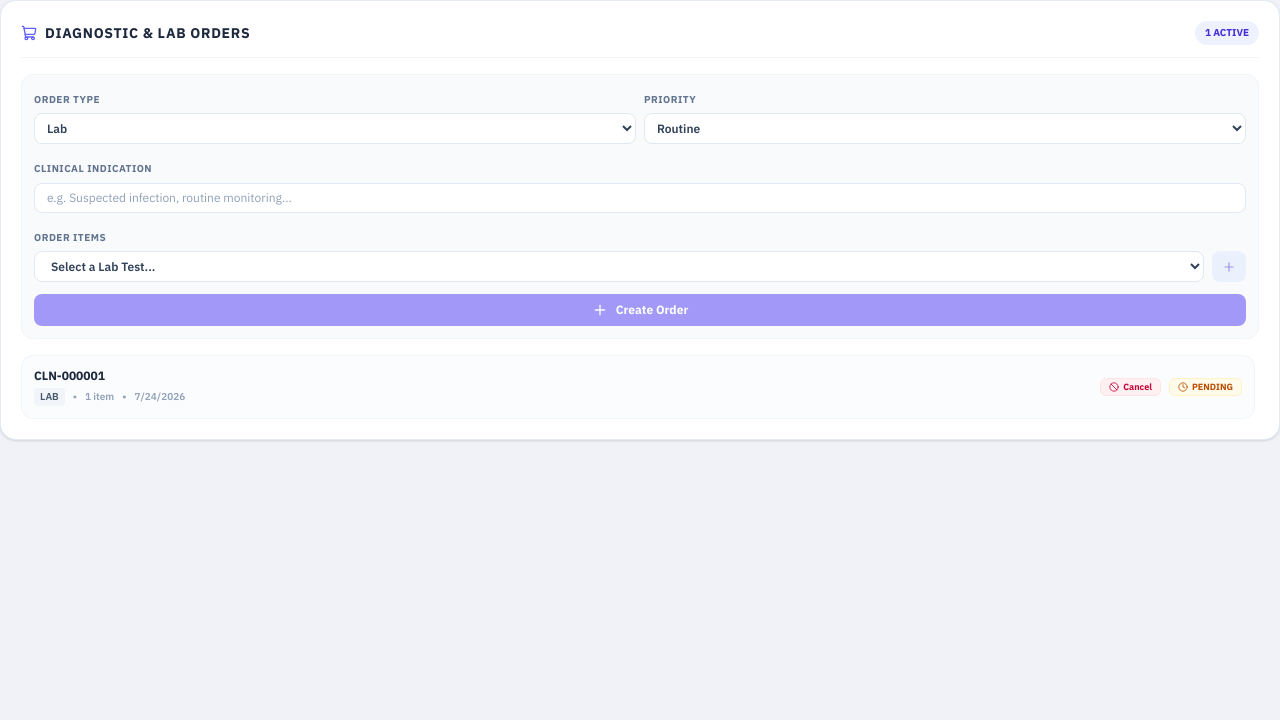
Scenario: DoctorOrdersPanel Component Tests › shows success state after successful cancellation
Click the button "Cancel" at coordinates (1131, 387), box x1=1100 y1=378 x2=1161 y2=396
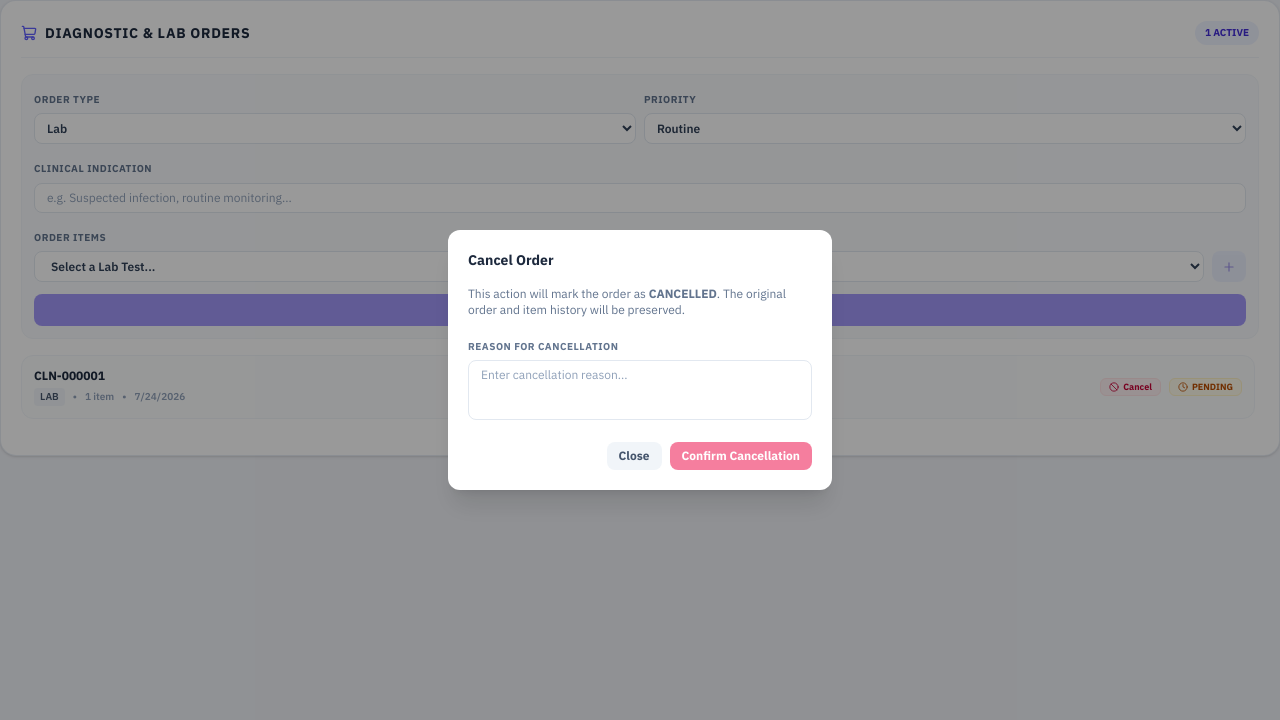
Type "Duplicate order" into the text box with placeholder "Enter cancellation reason..." at coordinates (640, 390), box x1=468 y1=360 x2=812 y2=420
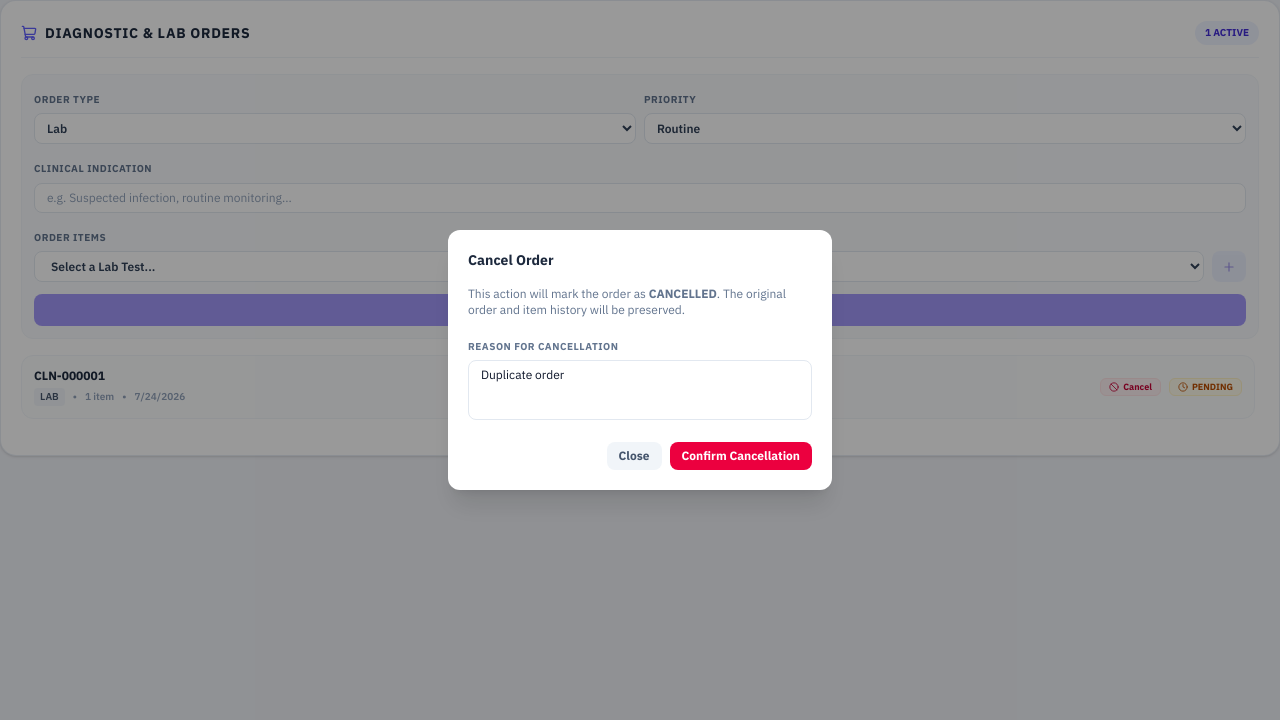
Click the button "Confirm Cancellation" at coordinates (741, 456), box x1=670 y1=442 x2=812 y2=470
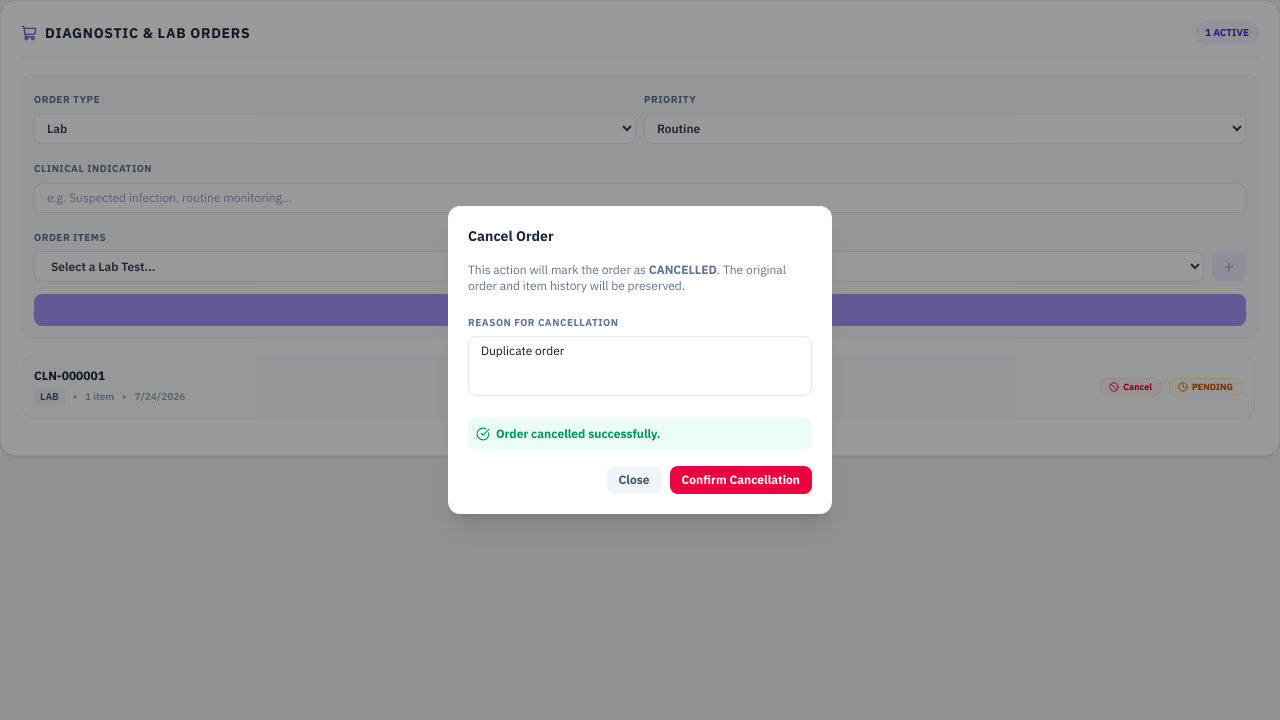
Check: the text "Order cancelled successfully." is shown, box x1=468 y1=418 x2=812 y2=450
